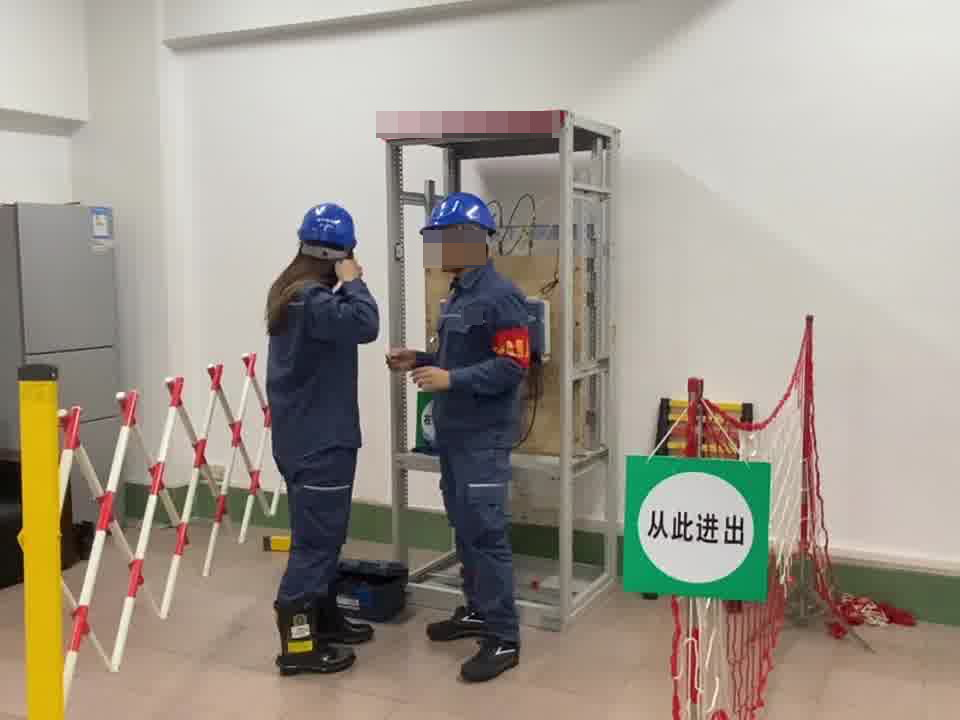badge: (490, 326, 533, 370)
downsuit: (439, 452, 521, 637), (274, 452, 360, 605)
hair: (261, 202, 356, 329)
halt: (419, 192, 500, 271), (296, 200, 359, 271)
hand: (414, 364, 447, 391), (386, 343, 415, 370), (335, 258, 360, 284)
inear: (452, 225, 485, 257)
intosign: (620, 452, 769, 604)
person: (412, 192, 545, 675), (255, 204, 377, 671)
shoe: (276, 606, 355, 674), (301, 589, 375, 643)
upsuit: (266, 279, 378, 457), (433, 267, 538, 444)
